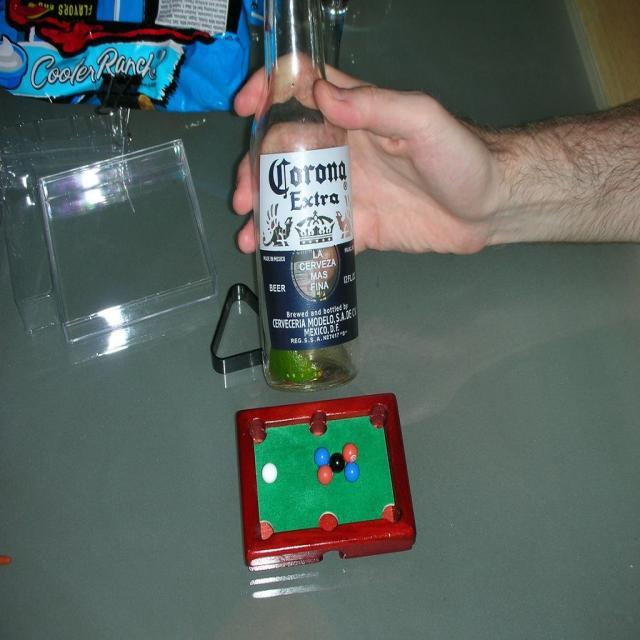corona: (261, 146, 360, 352)
